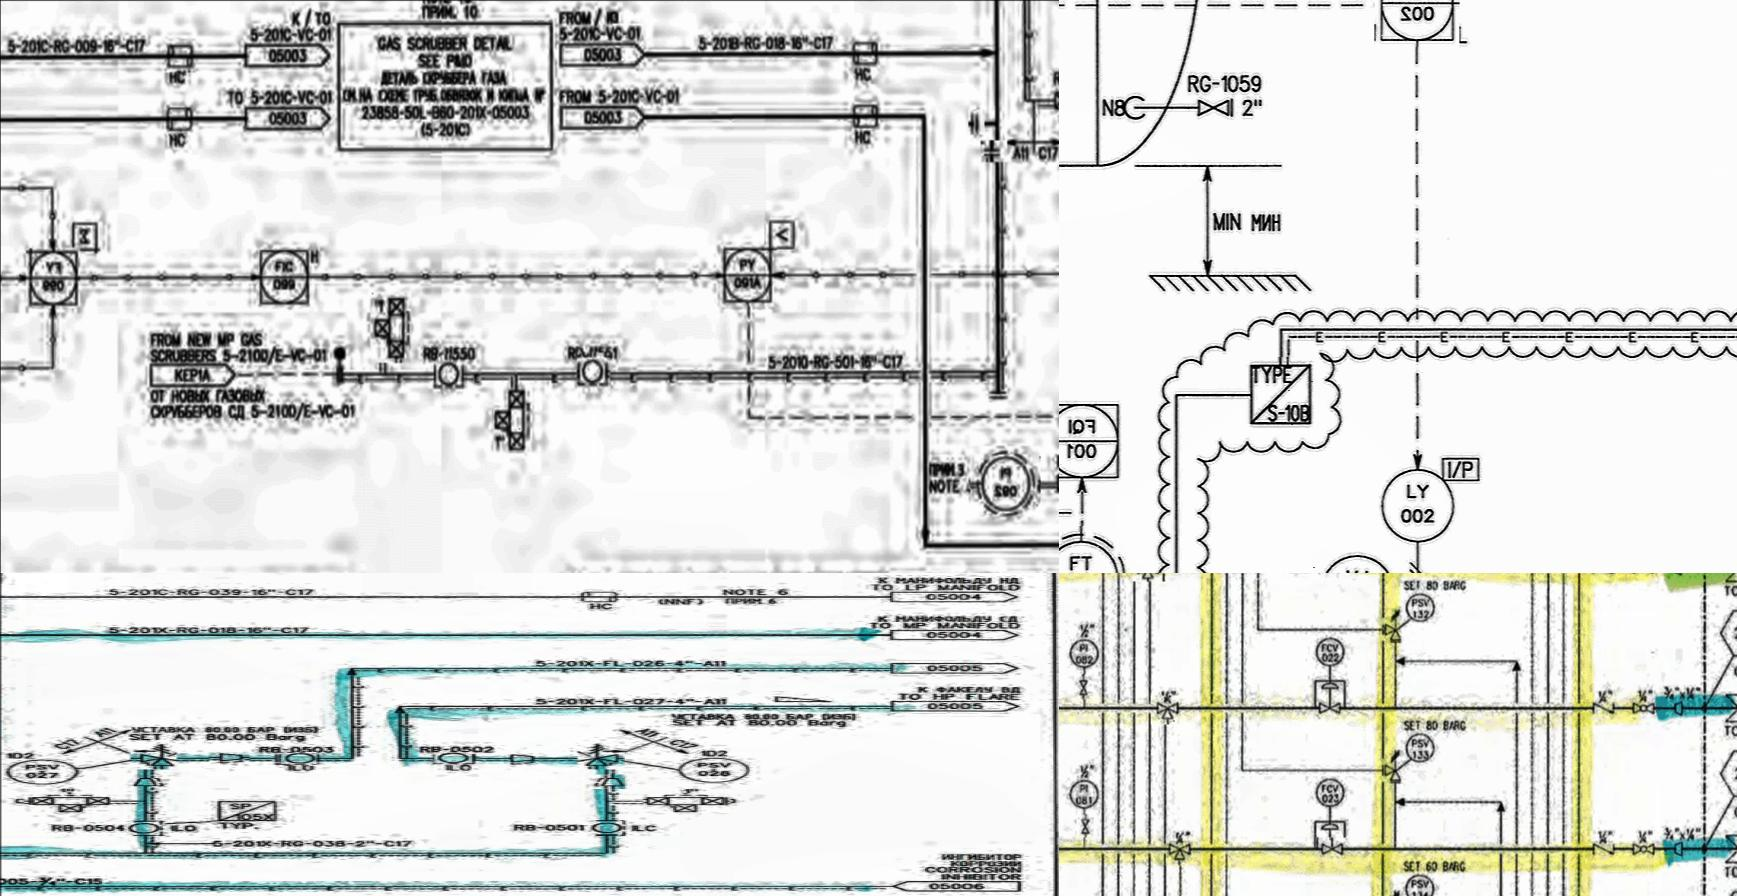2 WAY VALVE: (489, 382, 529, 462), (369, 291, 410, 362)
3 WAY GENERAL VALVE: (1166, 834, 1196, 865), (1151, 695, 1183, 725), (1132, 573, 1164, 581)
ANGLE RELIEF VALVE: (1376, 743, 1404, 787), (1380, 601, 1404, 650)
DCS ACCESSIBLE: (1059, 391, 1124, 486), (1374, 0, 1459, 48), (718, 242, 777, 306), (256, 247, 311, 306), (26, 248, 80, 309)
DUPLEX RECEPTACLE: (847, 95, 889, 143), (842, 33, 883, 73), (161, 102, 195, 136), (165, 39, 195, 72)
END CAP: (1668, 834, 1688, 859), (1316, 818, 1345, 834), (1672, 697, 1689, 723), (1319, 677, 1345, 694), (1668, 573, 1684, 579)
END FLANGED: (982, 139, 1009, 161), (968, 109, 984, 134)
FIELD INSTRUMENT: (1377, 464, 1454, 545), (971, 446, 1042, 517), (1059, 526, 1131, 573), (1312, 549, 1398, 573), (1065, 632, 1107, 671), (1312, 773, 1348, 809), (1064, 778, 1105, 810), (576, 352, 609, 390), (1313, 633, 1348, 667), (434, 353, 466, 391), (1404, 730, 1436, 766), (1406, 592, 1439, 624), (1403, 873, 1441, 896)
GATE VALVE: (1191, 97, 1236, 121), (1316, 837, 1347, 859), (1313, 694, 1345, 715), (1075, 674, 1091, 699), (1076, 815, 1092, 839)
GLOBE VALVE: (1626, 834, 1660, 859), (1626, 695, 1660, 718), (1628, 573, 1660, 581)
IP CONVERTER: (1441, 450, 1487, 487)
LOW SELECTOR: (765, 218, 800, 255)
NO ACCESS INDICATOR: (1716, 603, 1737, 662), (1718, 746, 1737, 802)
SPECIAL PIPING ITEM: (1244, 357, 1316, 434)
SUM: (71, 223, 102, 255)
